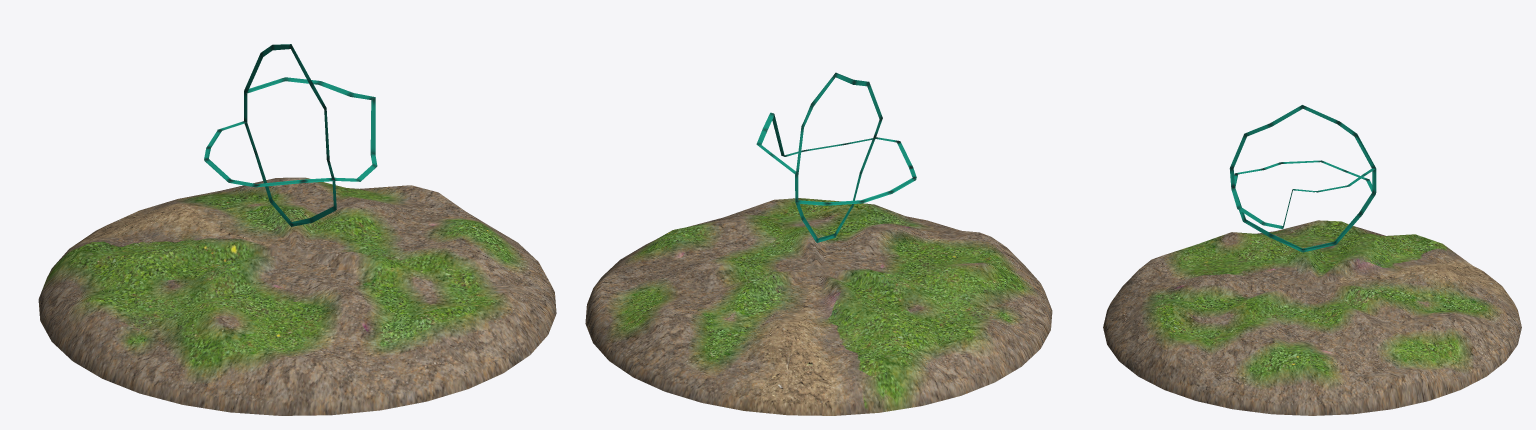
File: SM_Tex_DoorScene.fbx
The picture shows the model from 3 angles, left to right: view 1: azimuth 30°, elevation 25°; view 2: azimuth 150°, elevation 25°; view 3: azimuth 270°, elevation 25°; orthographic projection. The views are drawn at different scales.
Parts seen in each view (by area): view 1: Base, CentralCrystalTopLeft, CentralCrystalBottomLeft, CentralCrystalTopRight, CentralCrystalBottomRight; view 2: Base, CentralCrystalTopLeft, CentralCrystalBottomLeft, CentralCrystalBottomRight, CentralCrystalTopRight; view 3: Base, CentralCrystalTopRight, CentralCrystalBottomLeft, CentralCrystalBottomRight.
Part boxes in pixels (left/top/right/bottom): Base: left=38, top=177, right=556, bottom=415; CentralCrystalTopLeft: left=245, top=45, right=377, bottom=181; CentralCrystalBottomLeft: left=245, top=77, right=376, bottom=223; CentralCrystalTopRight: left=204, top=44, right=334, bottom=186; CentralCrystalBottomRight: left=204, top=123, right=335, bottom=226; Base: left=585, top=198, right=1052, bottom=415; CentralCrystalTopLeft: left=761, top=74, right=881, bottom=174; CentralCrystalBottomLeft: left=756, top=112, right=874, bottom=242; CentralCrystalBottomRight: left=796, top=138, right=916, bottom=242; CentralCrystalTopRight: left=796, top=72, right=916, bottom=204; Base: left=1103, top=220, right=1521, bottom=415; CentralCrystalTopRight: left=1231, top=105, right=1376, bottom=192; CentralCrystalBottomLeft: left=1231, top=168, right=1375, bottom=252; CentralCrystalBottomRight: left=1235, top=162, right=1375, bottom=249.
Size of the model in its own units: 74.66 by 49.18 by 74.66.
